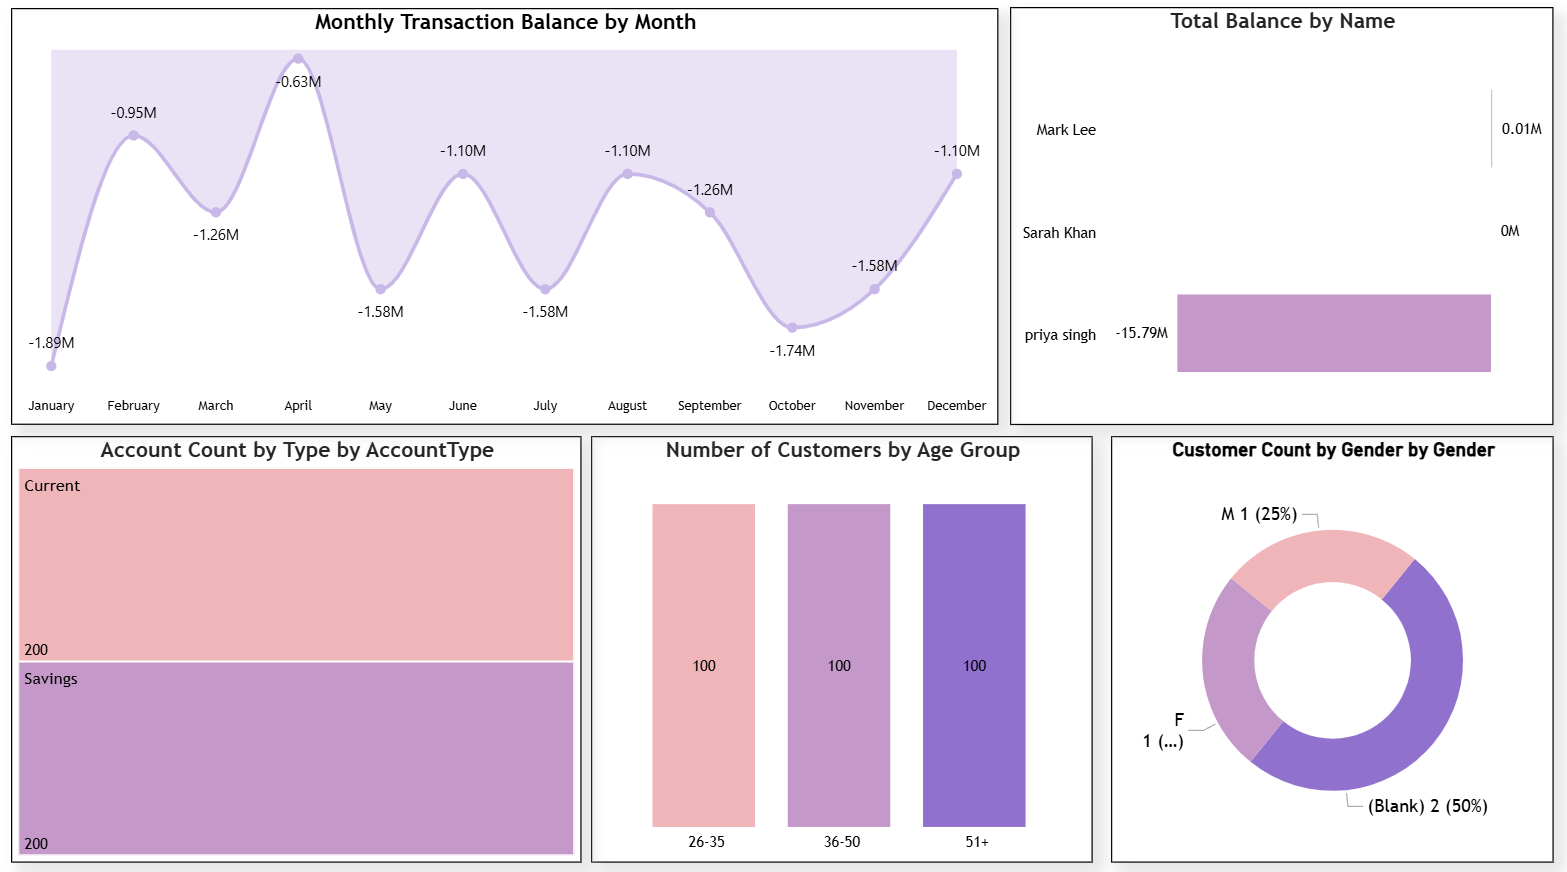

This screenshot's page, from the dashboard's own definition file:
{"tool":"powerbi","page":{"name":"Page 2","canvas":[1280,720],"ordinal":1},"visuals":[{"type":"donutChart","fields":{"Y":["Measures Table.Customer Count by Gender"],"Category":["CombinedBankingDataset.Gender"]},"box":[905.1,360.4,360.4,346.9],"z":0},{"type":"columnChart","title":"Number of Customers by Age Group","fields":{"Category":["CombinedBankingDataset.Customer Age Group"],"Y":["CountNonNull(CombinedBankingDataset.CustomerID)"]},"box":[482.6,360.4,408,346.9],"z":1},{"type":"treemap","fields":{"Group":["CombinedBankingDataset.AccountType"],"Values":["Measures Table.Account Count by Type"]},"box":[10.4,360.4,463.9,346.9],"z":2},{"type":"barChart","title":"Total Balance by Name","fields":{"Category":["CombinedBankingDataset.Name"],"Y":["Sum(CombinedBankingDataset.Balance)"]},"box":[823.3,11.4,442.2,339.7],"z":3},{"type":"areaChart","fields":{"Category":["CombinedBankingDataset.TransactionDate.Variation.Date Hierarchy.Month"],"Y":["Measures Table.Monthly Transaction Balance"]},"box":[10.8,12,803,339.2],"z":4}]}

Visuals, with their boxes in screenshot pixels (x1, y1, x2, y2), scaled from the page's 1280x720 canvas onto the 1567x872 screenshot:
donutChart - Measures Table.Customer Count by Gender x CombinedBankingDataset.Gender: (left=1108, top=436, right=1549, bottom=857)
"Number of Customers by Age Group" columnChart: (left=591, top=436, right=1090, bottom=857)
treemap - CombinedBankingDataset.AccountType x Measures Table.Account Count by Type: (left=13, top=436, right=581, bottom=857)
"Total Balance by Name" barChart: (left=1008, top=14, right=1549, bottom=425)
areaChart - CombinedBankingDataset.TransactionDate.Variation.Date Hierarchy.Month x Measures Table.Monthly Transaction Balance: (left=13, top=15, right=996, bottom=425)
